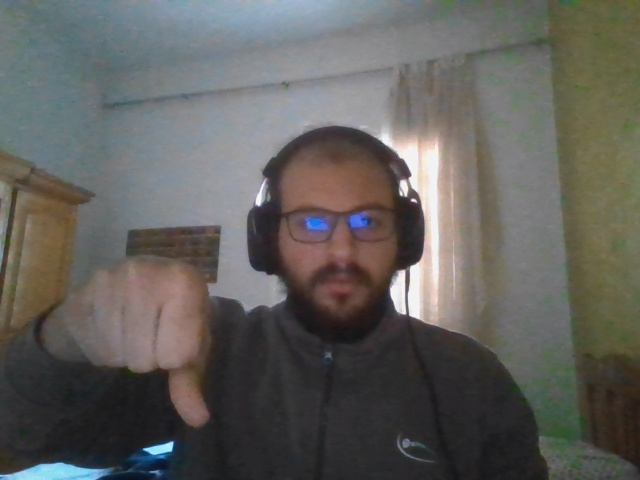Yes: (65, 256, 210, 426)
